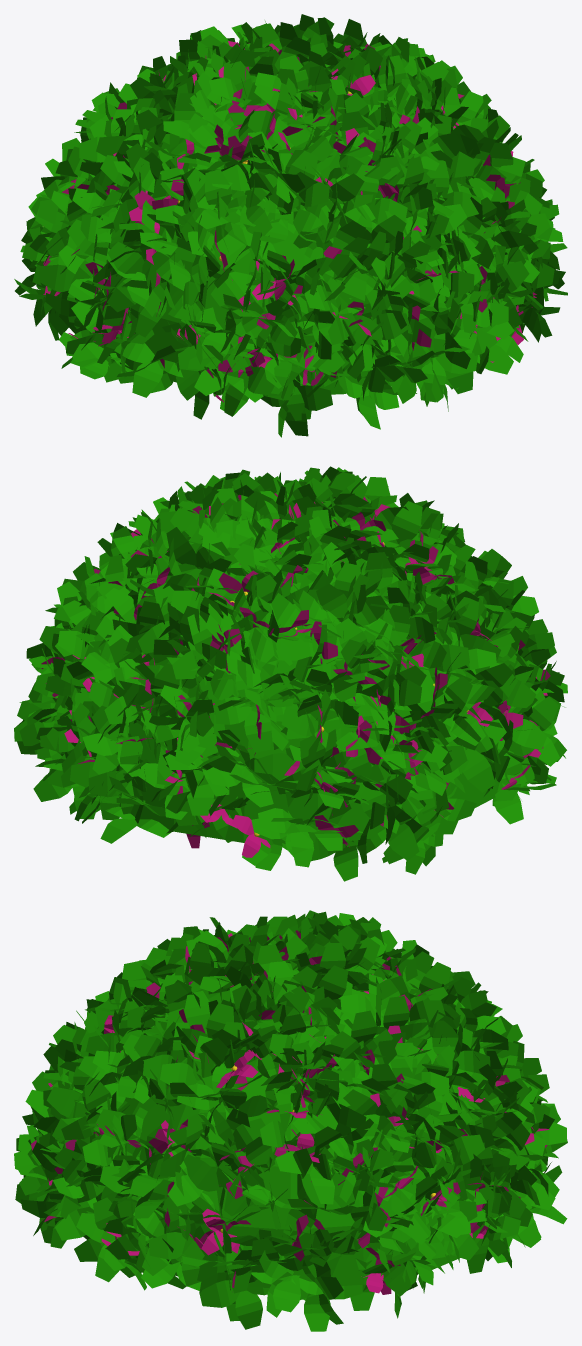
File: bushs with flower.fbx
The picture shows the model from 3 angles, top to bottom: view 1: azimuth 30°, elevation 25°; view 2: azimuth 150°, elevation 25°; view 3: azimuth 270°, elevation 25°; orthographic projection.
Parts seen in each view (by area): view 1: bush with flower, bush with flower|leaf|Dupli|415, bush with flower|leaf|Dupli|188, bush with flower|leaf|Dupli|144, bush with flower|leaf|Dupli|601, bush with flower|leaf|Dupli|348, bush with flower|leaf|Dupli|215, bush with flower|leaf|Dupli|644, bush with flower|leaf|Dupli|524, bush with flower|leaf|Dupli|56, bush with flower|leaf|Dupli|617, bush with flower|leaf|Dupli|210 (+106 smaller); view 2: bush with flower, bush with flower|leaf|Dupli|466, bush with flower|leaf|Dupli|65, bush with flower|leaf|Dupli|613, bush with flower|leaf|Dupli|684, bush with flower|leaf|Dupli|244, bush with flower|leaf|Dupli|681, bush with flower|leaf|Dupli|496, bush with flower|leaf|Dupli|546, bush with flower|leaf|Dupli|266, bush with flower|leaf|Dupli|167, bush with flower|leaf|Dupli|434 (+108 smaller); view 3: bush with flower, bush with flower|leaf|Dupli|41, bush with flower|leaf|Dupli|544, bush with flower|leaf|Dupli|220, bush with flower|leaf|Dupli|426, bush with flower|leaf|Dupli|416, bush with flower|leaf|Dupli|525, bush with flower|leaf|Dupli|214, bush with flower|leaf|Dupli|344, bush with flower|leaf|Dupli|185, bush with flower|leaf|Dupli|665, bush with flower|leaf|Dupli|38 (+112 smaller).
Part boxes in pixels (bbox=[...]): bush with flower: bbox=[57, 74, 516, 395]; bush with flower|leaf|Dupli|415: bbox=[211, 234, 268, 311]; bush with flower|leaf|Dupli|188: bbox=[114, 342, 183, 397]; bush with flower|leaf|Dupli|144: bbox=[215, 173, 277, 244]; bush with flower|leaf|Dupli|601: bbox=[107, 241, 151, 312]; bush with flower|leaf|Dupli|348: bbox=[420, 331, 477, 402]; bush with flower|leaf|Dupli|215: bbox=[356, 164, 407, 240]; bush with flower|leaf|Dupli|644: bbox=[261, 374, 332, 436]; bush with flower|leaf|Dupli|524: bbox=[338, 376, 399, 429]; bush with flower|leaf|Dupli|56: bbox=[337, 276, 382, 354]; bush with flower|leaf|Dupli|617: bbox=[177, 169, 246, 232]; bush with flower|leaf|Dupli|210: bbox=[144, 246, 184, 316]; bush with flower: bbox=[91, 541, 499, 843]; bush with flower|leaf|Dupli|466: bbox=[209, 662, 285, 752]; bush with flower|leaf|Dupli|65: bbox=[335, 748, 409, 819]; bush with flower|leaf|Dupli|613: bbox=[88, 736, 142, 814]; bush with flower|leaf|Dupli|684: bbox=[463, 719, 506, 792]; bush with flower|leaf|Dupli|244: bbox=[311, 799, 358, 881]; bush with flower|leaf|Dupli|681: bbox=[316, 583, 388, 627]; bush with flower|leaf|Dupli|496: bbox=[166, 527, 230, 575]; bush with flower|leaf|Dupli|546: bbox=[355, 797, 423, 860]; bush with flower|leaf|Dupli|266: bbox=[206, 761, 273, 807]; bush with flower|leaf|Dupli|167: bbox=[172, 614, 211, 685]; bush with flower|leaf|Dupli|434: bbox=[99, 806, 171, 843]; bush with flower: bbox=[62, 988, 510, 1288]; bush with flower|leaf|Dupli|41: bbox=[181, 1149, 254, 1216]; bush with flower|leaf|Dupli|544: bbox=[199, 1244, 269, 1329]; bush with flower|leaf|Dupli|220: bbox=[148, 1209, 200, 1286]; bush with flower|leaf|Dupli|426: bbox=[251, 1265, 337, 1312]; bush with flower|leaf|Dupli|416: bbox=[204, 1107, 265, 1186]; bush with flower|leaf|Dupli|525: bbox=[432, 1020, 490, 1073]; bush with flower|leaf|Dupli|214: bbox=[61, 1079, 111, 1139]; bush with flower|leaf|Dupli|344: bbox=[390, 1042, 448, 1113]; bush with flower|leaf|Dupli|185: bbox=[308, 1067, 366, 1128]; bush with flower|leaf|Dupli|665: bbox=[177, 1063, 233, 1144]; bush with flower|leaf|Dupli|38: bbox=[74, 1197, 141, 1277].
Bounding box in the file's own units: 232 × 137 × 231.
